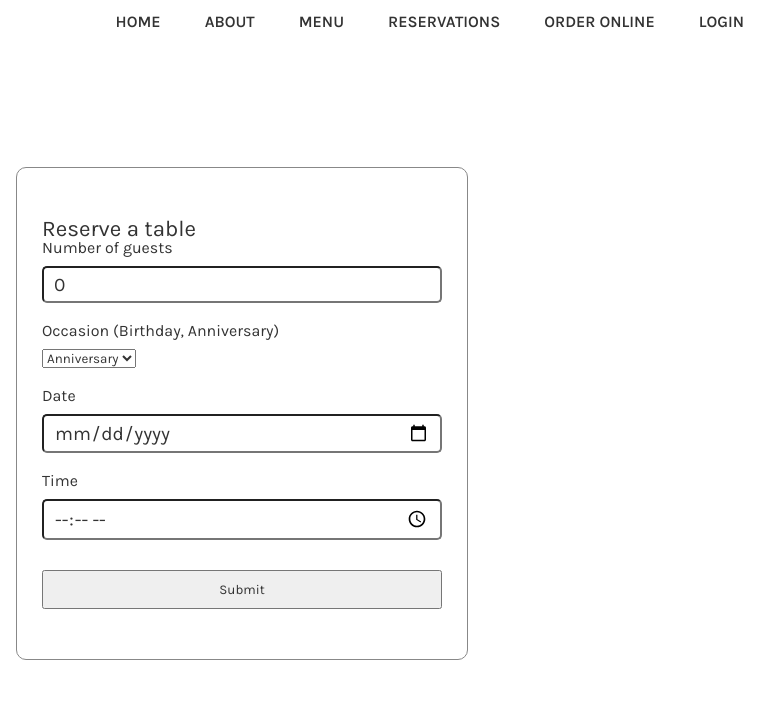
Test: Test form validation with right values
Replace the text in the field with test id "guests" with "4". click: [242, 285]
box: [42, 266, 442, 303]
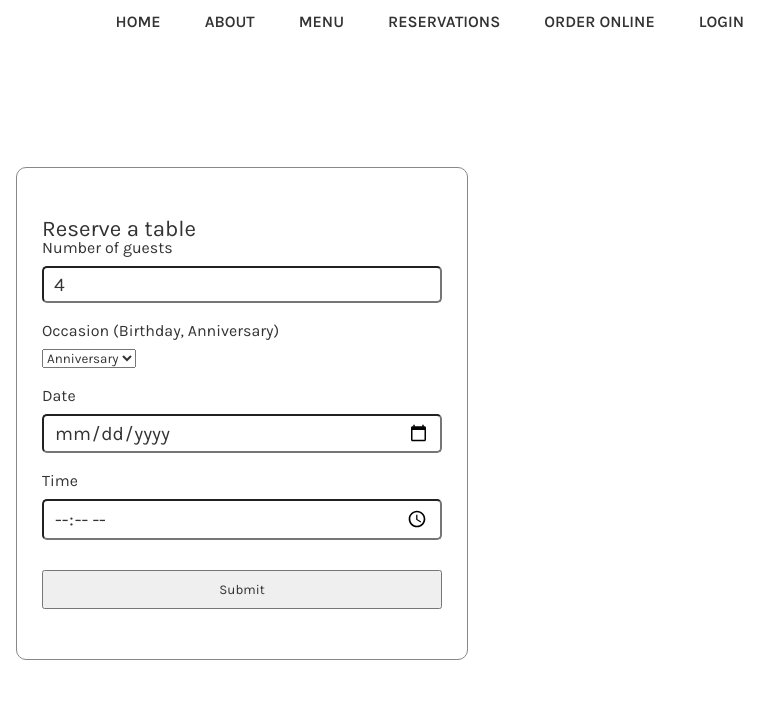
Select "Birthday" in the dropdown with test id "occasion". click: [89, 359]
box: [42, 349, 136, 368]
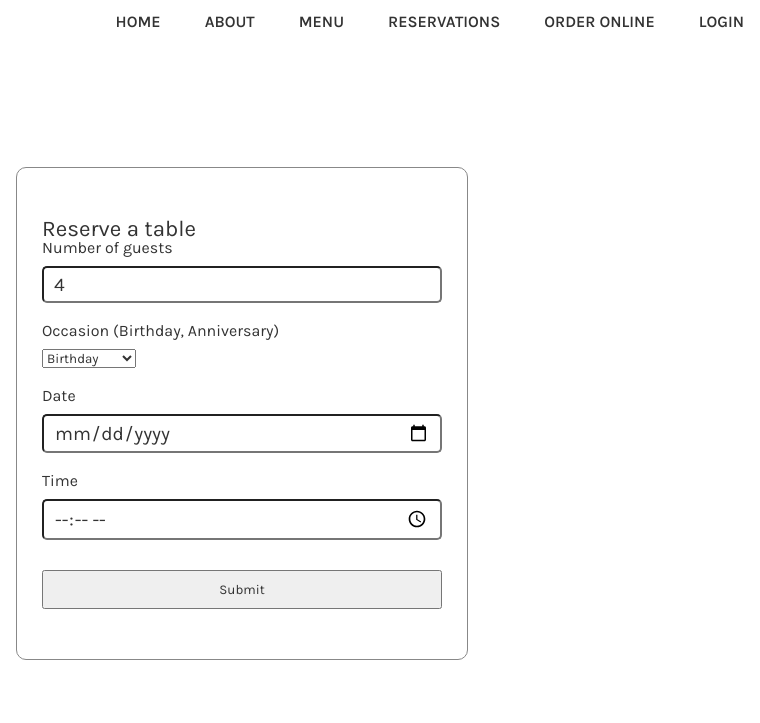
Type "2023-01-22" into the date field with test id "date". click: [242, 434]
box: [42, 414, 442, 453]
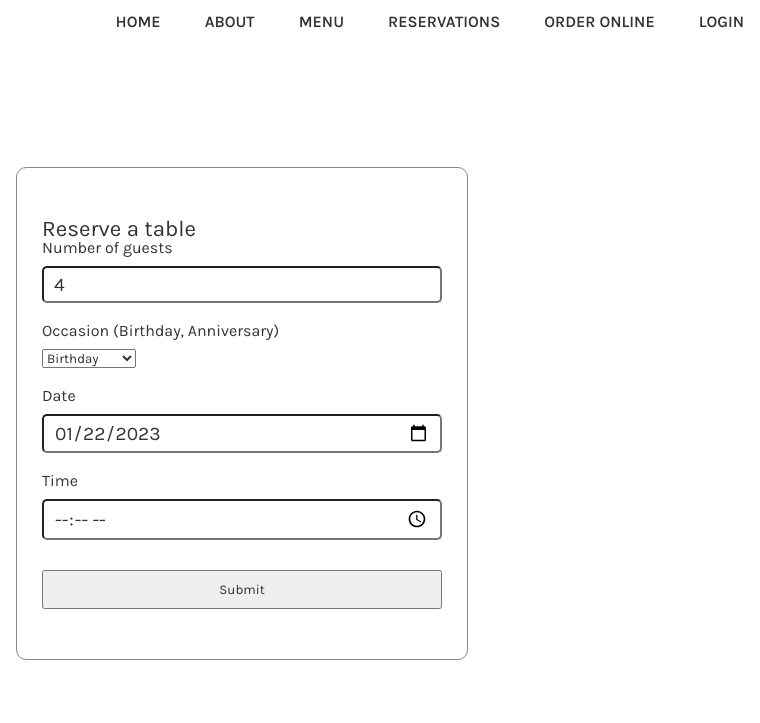
Type "14:00" into the time field with test id "time". click: [242, 520]
box: [42, 499, 442, 540]
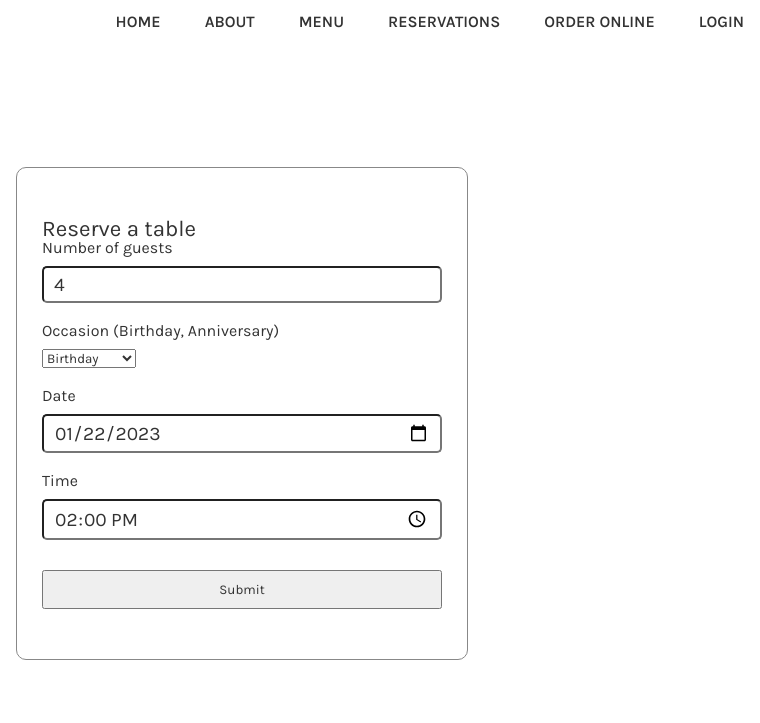
Click the button with test id "submit". click: [242, 589]
box: [42, 570, 442, 609]
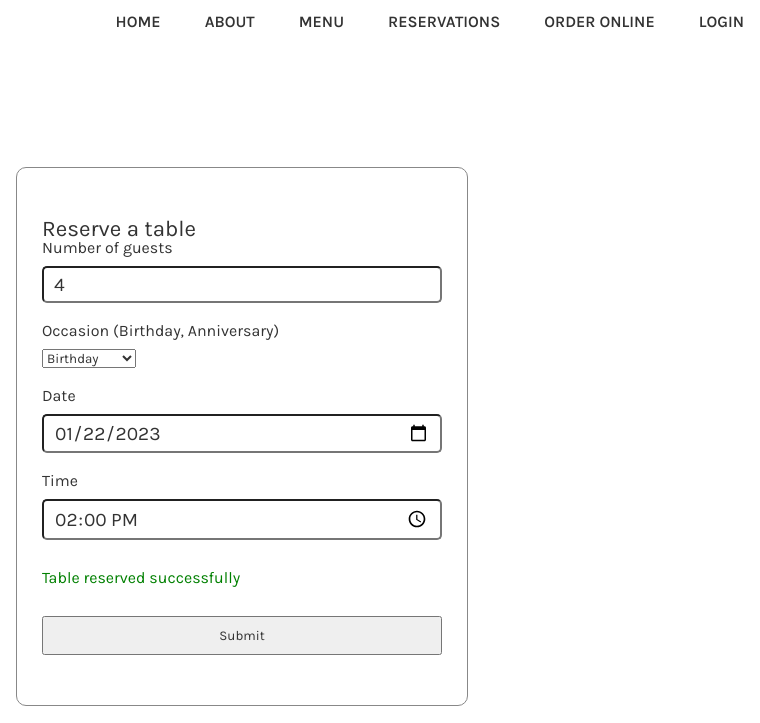
Expected: the text with test id "msg" reads "Table reserved successfully", [42, 568, 240, 587]
